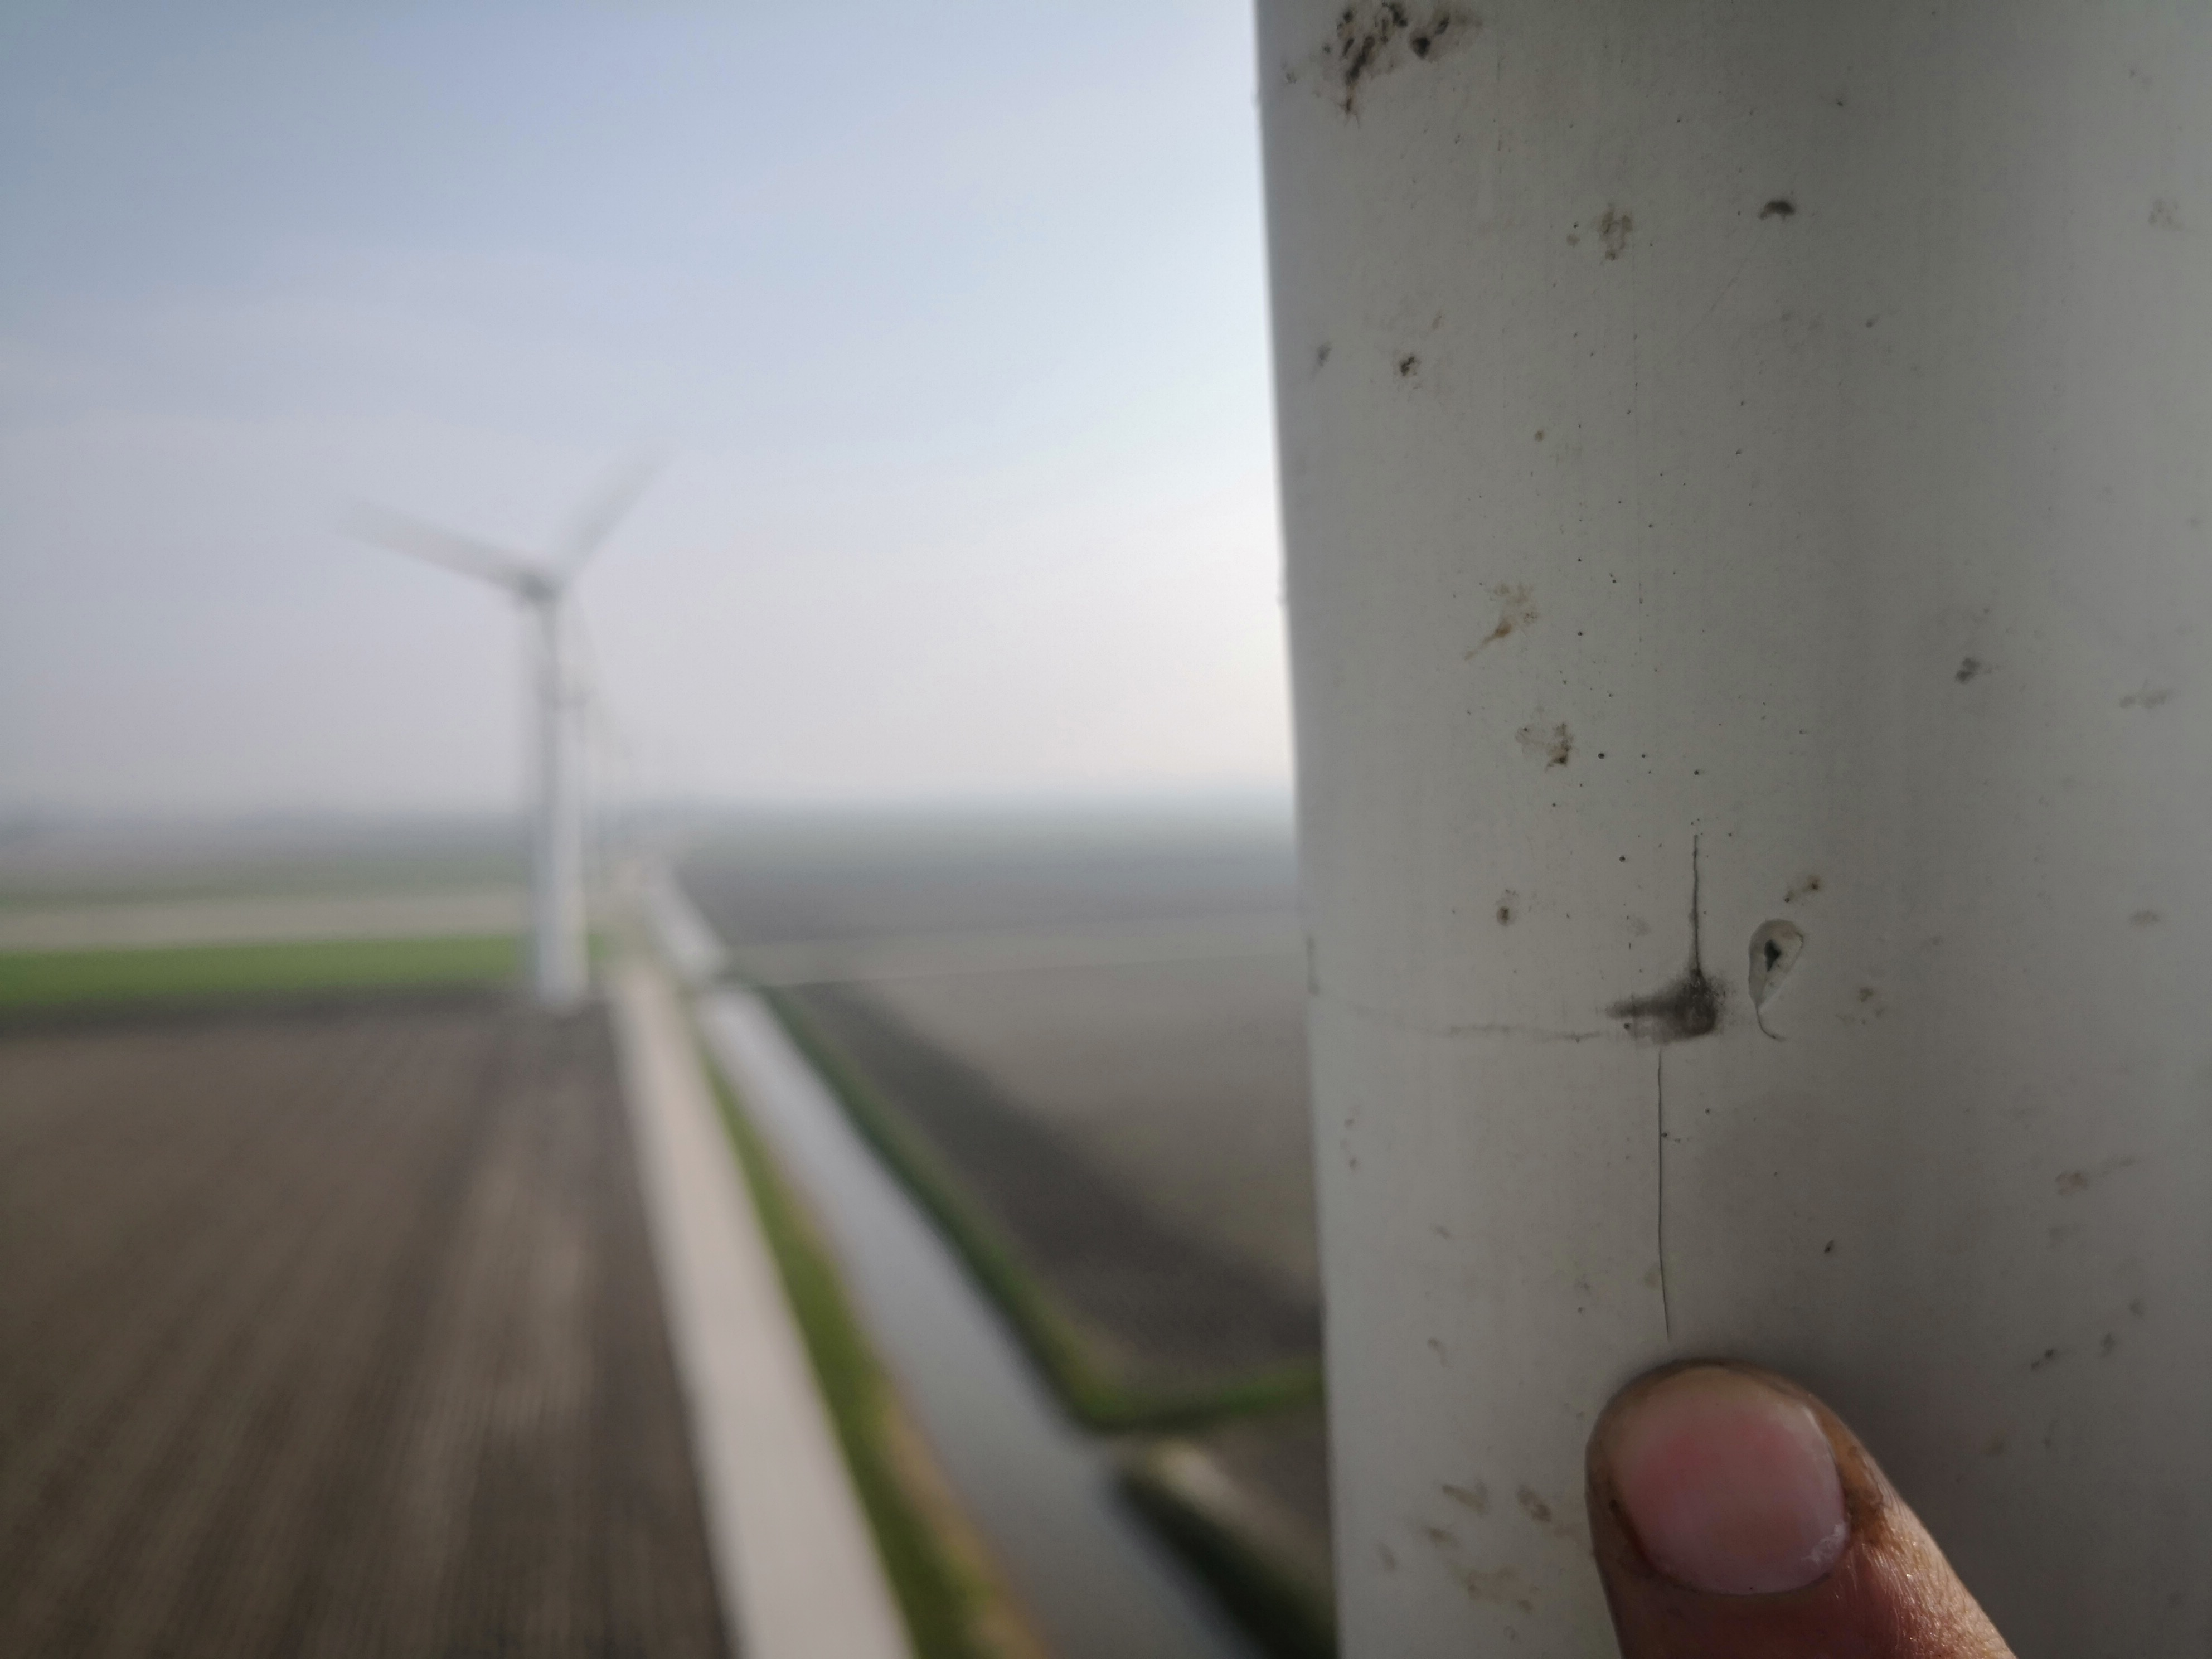SD: (1627, 817, 1841, 1330)
